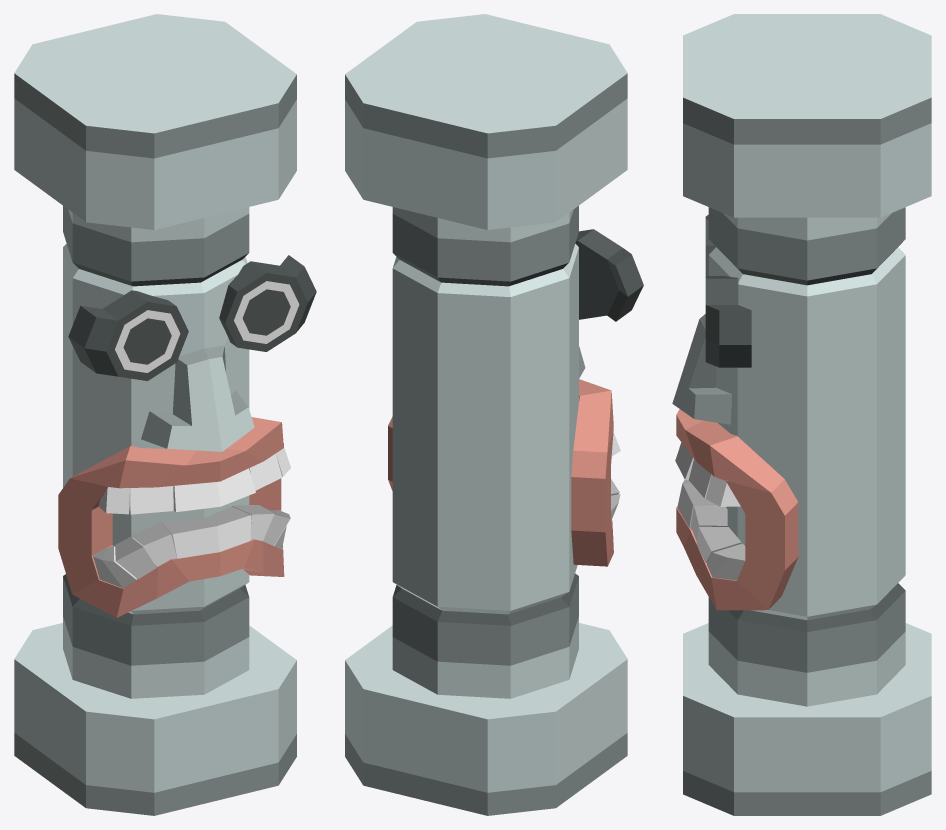
Rendered from Totem_1.fbx.
The picture shows the model from 3 angles, left to right: view 1: azimuth 30°, elevation 25°; view 2: azimuth 150°, elevation 25°; view 3: azimuth 270°, elevation 25°; orthographic projection. The views are drawn at different scales.
Visible parts, largest first — view 1: Totem_2; view 2: Totem_2; view 3: Totem_2.
Part boxes in pixels (left/top/right/bottom): Totem_2: left=14, top=14, right=316, bottom=815; Totem_2: left=345, top=14, right=643, bottom=815; Totem_2: left=672, top=14, right=931, bottom=815.
Size of the model in its own units: 124 by 348 by 117.
